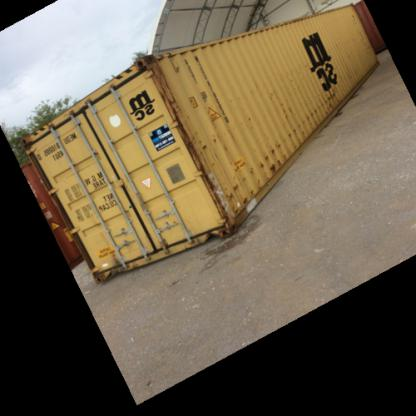Damage: (180, 113, 240, 238), (234, 126, 296, 196), (137, 48, 181, 130), (290, 84, 346, 138)
